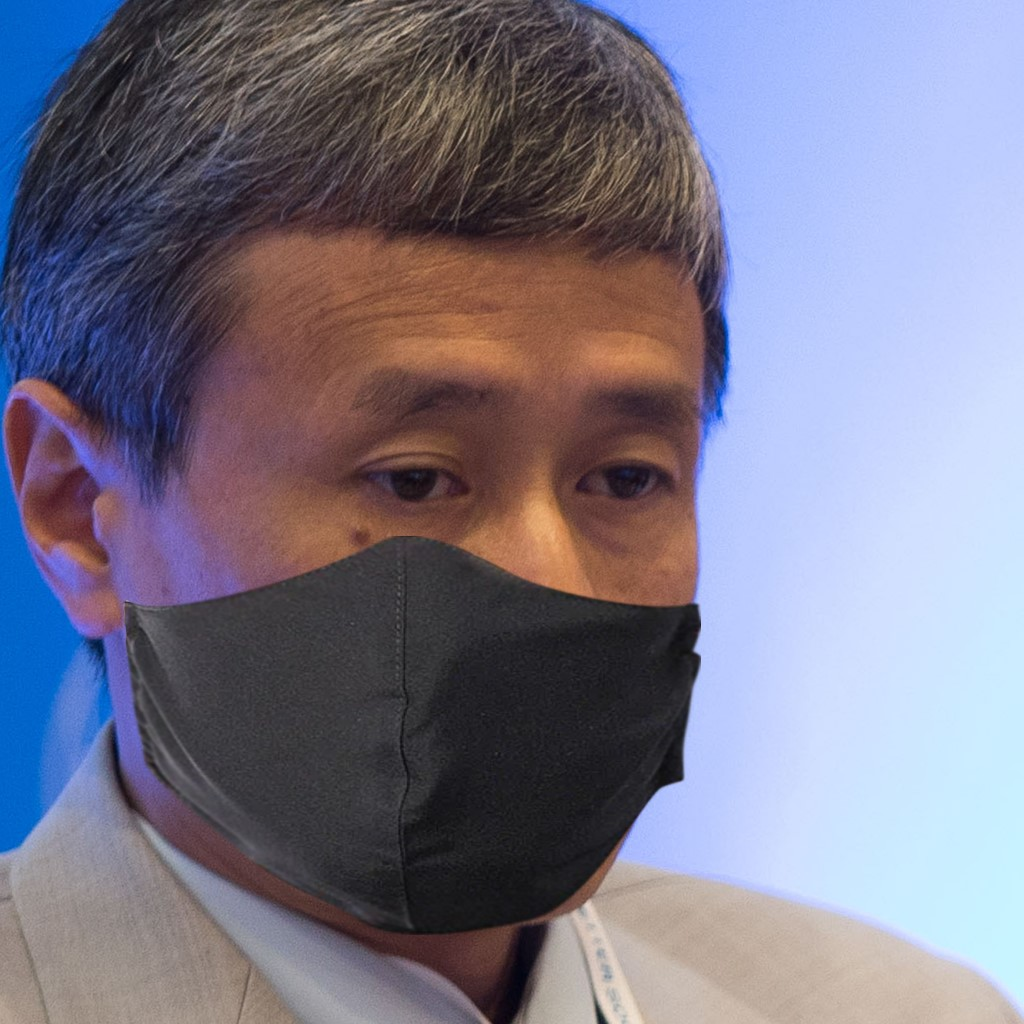con_mascara: (53, 107, 709, 951)
